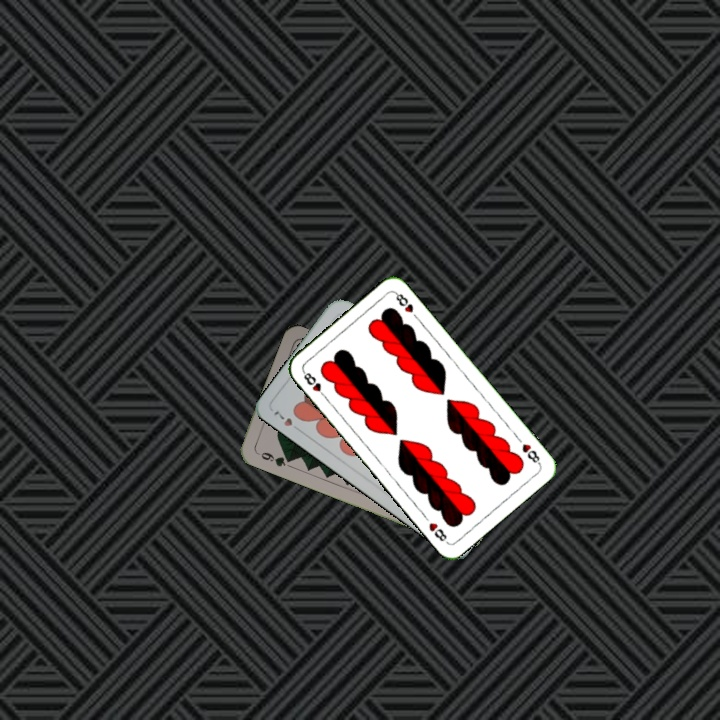G9: (253, 448, 293, 469)
H7: (269, 407, 304, 435)
H8: (298, 367, 329, 401), (518, 439, 543, 467)
